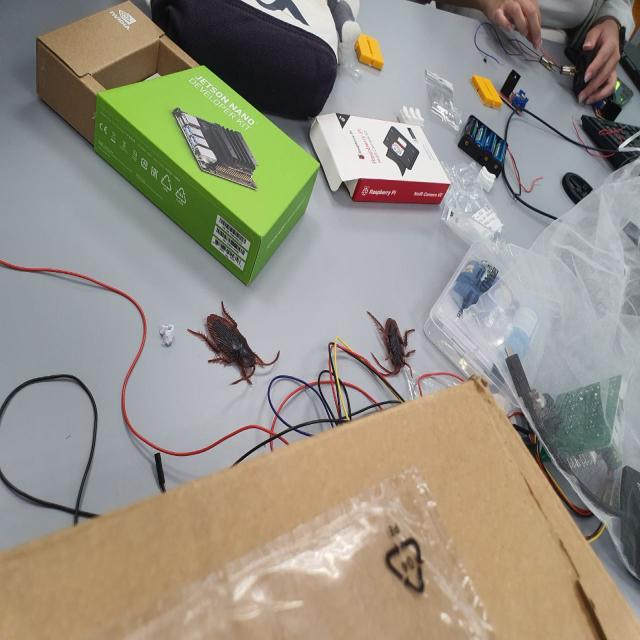Cockroach: (185, 293, 283, 388), (358, 304, 418, 384)
